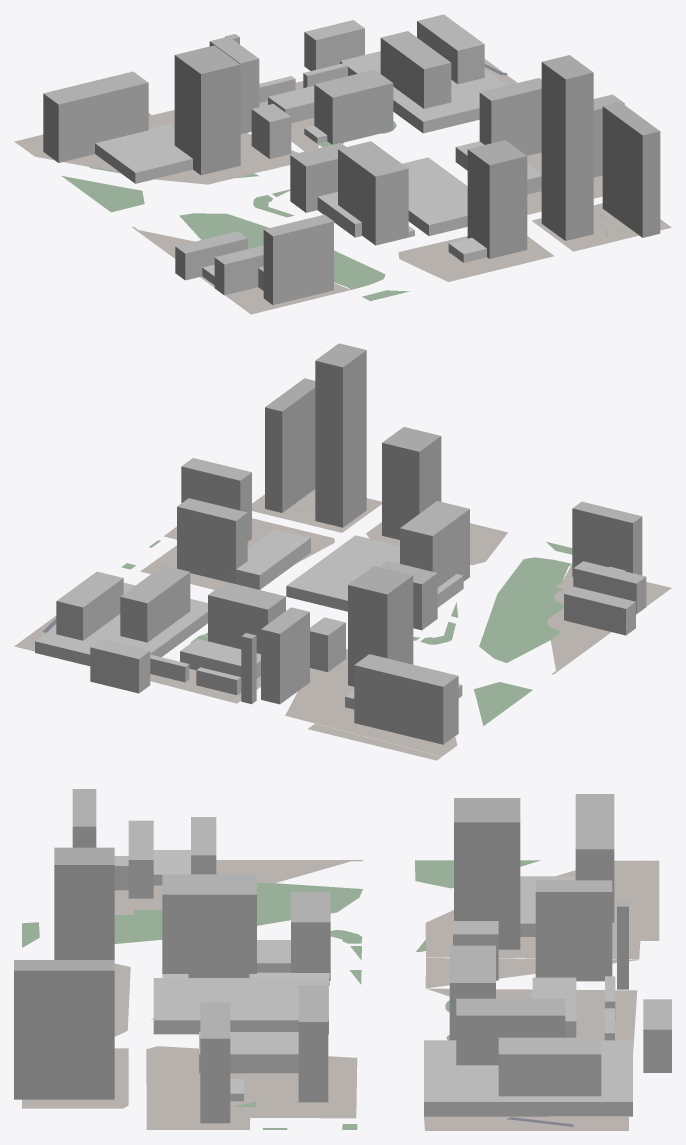
File: 119_75_mid.glb
3 views of the same model, one above another, from view 1: azimuth 30°, elevation 25°; view 2: azimuth 150°, elevation 25°; view 3: azimuth 270°, elevation 25° (orthographic). The views are drawn at different scales.
Size of the model in its own units: 517 by 178 by 516.
